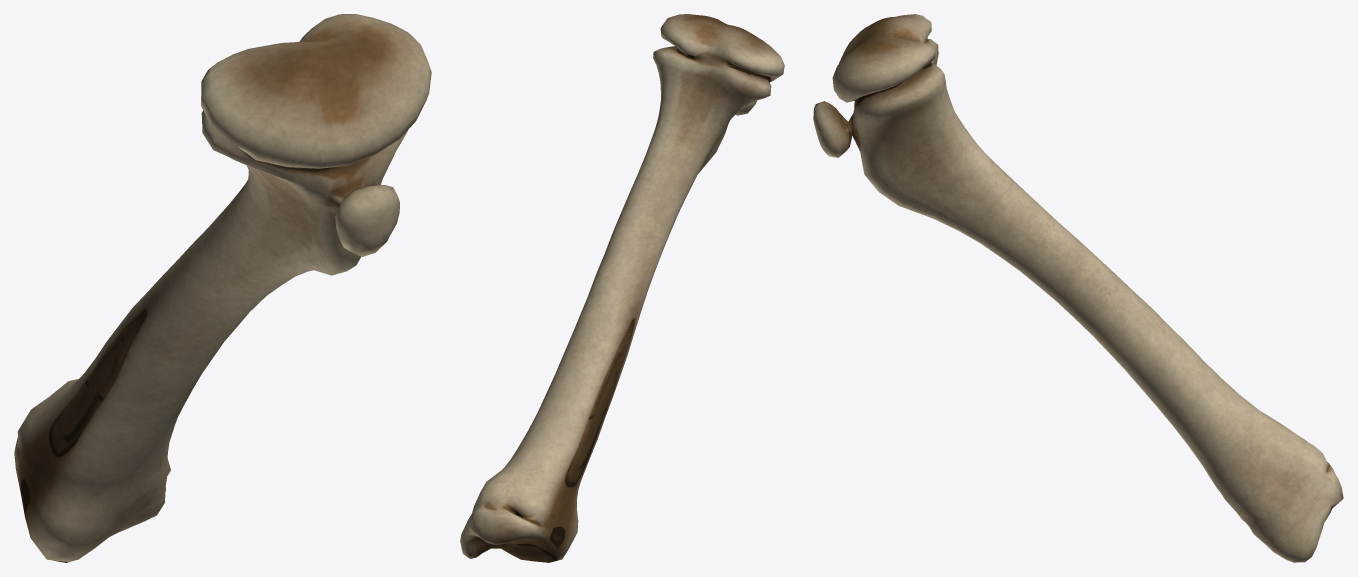
Rendered from Tibia.glb.
3 views of the same model, side by side, from view 1: azimuth 30°, elevation 25°; view 2: azimuth 150°, elevation 25°; view 3: azimuth 270°, elevation 25° (orthographic). The views are drawn at different scales.
Parts seen in each view (by area): view 1: Tibia_Right1:Group22711; view 2: Tibia_Right1:Group22711; view 3: Tibia_Right1:Group22711.
Part boxes in pixels (<box>): Tibia_Right1:Group22711: <box>14,14,431,562</box>; Tibia_Right1:Group22711: <box>460,14,784,562</box>; Tibia_Right1:Group22711: <box>813,14,1343,562</box>.
Bounding box in the file's own units: 35.08 × 99.66 × 96.53.
1 material, 1 textured.
